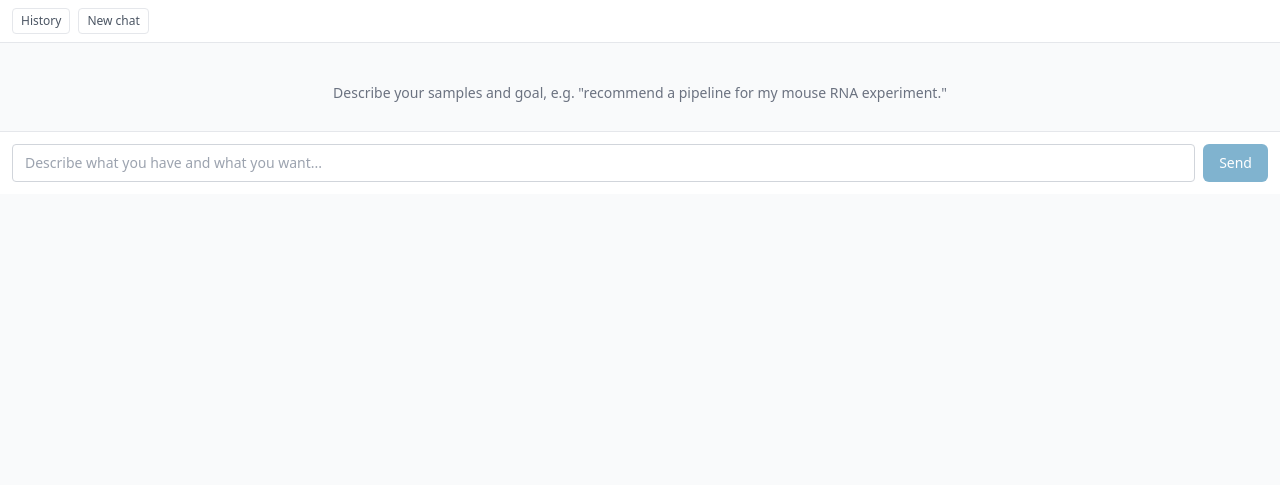
Test: AssistantChat › shows the plan, and confirming it reports approval without launching
Type "run it" into the field named "Message" at (604, 163), box [12,144,1195,182]
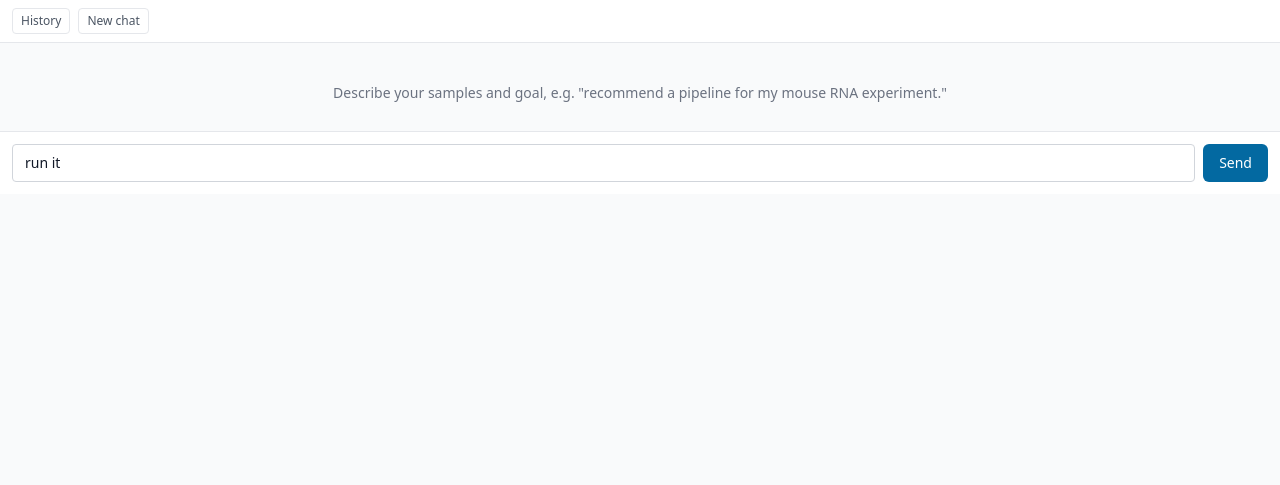
Click the button "Send" at (1236, 163), box [1203,144,1268,182]
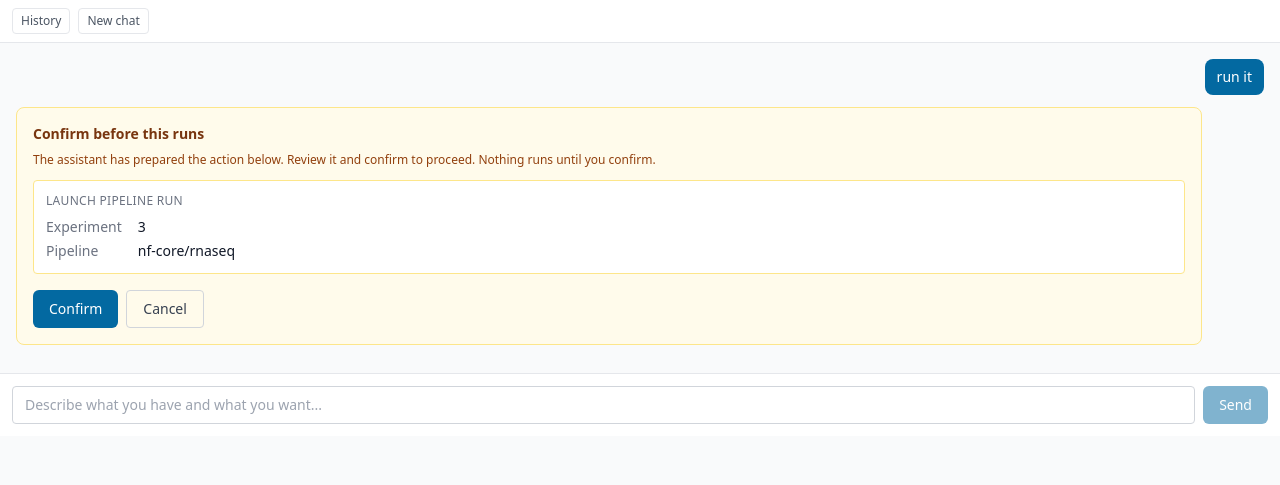
Result: the element with test id "plan-confirm-card" is shown at [16,107,1202,345]
Result: the text "nf-core/rnaseq" is shown at [138,241,235,260]
Click the button "Confirm" at (76, 309), box [33,290,118,328]
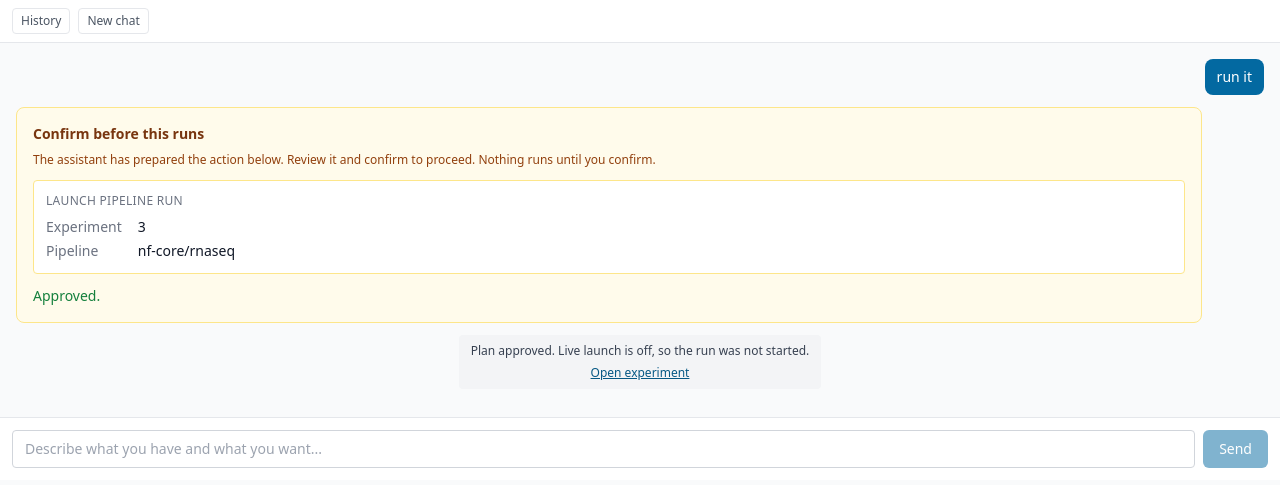
Result: the text "Approved." is shown at [33,286,100,305]
Result: the text "not started" is shown at [471,342,809,359]
